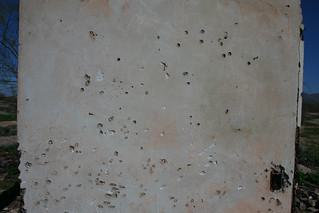Spalling: (25, 27, 259, 213), (260, 161, 291, 213)
